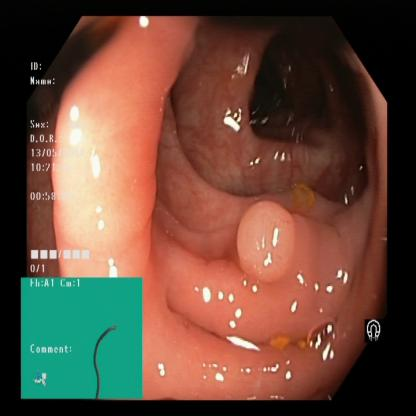Labels: (28, 61, 100, 276), (21, 277, 144, 400), (360, 309, 392, 347)
Polyps: (232, 191, 292, 285)
